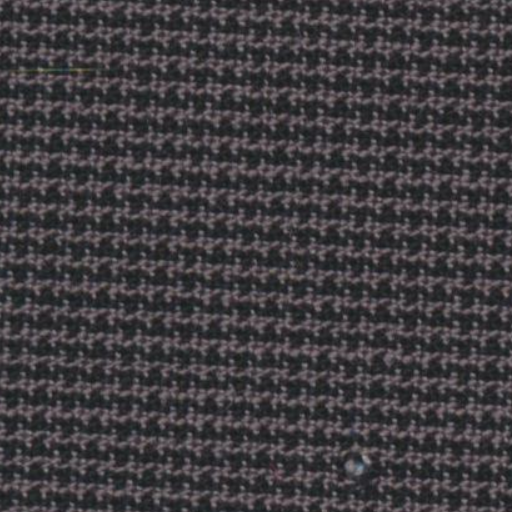PoDong: (328, 430, 396, 488)
